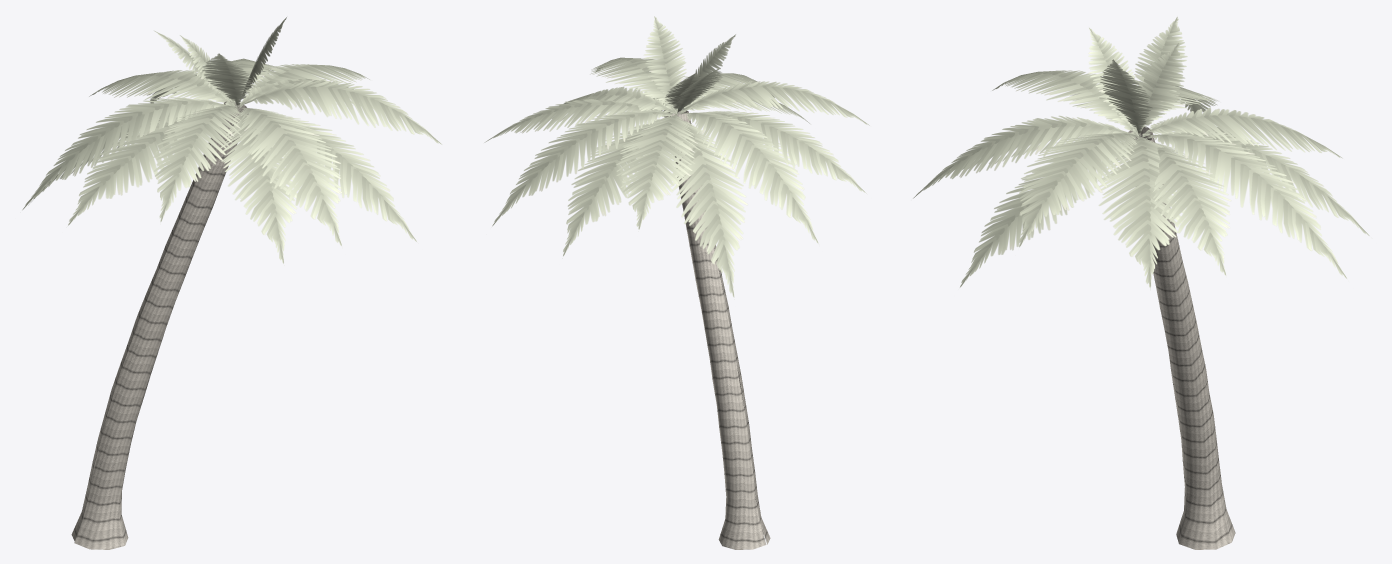
File: palm_b.glb
The picture shows the model from 3 angles, left to right: view 1: azimuth 30°, elevation 25°; view 2: azimuth 150°, elevation 25°; view 3: azimuth 270°, elevation 25°; orthographic projection. The views are drawn at different scales.
Parts seen in each view (by area): view 1: palm_b; view 2: palm_b; view 3: palm_b.
Part boxes in pixels (<box>): palm_b: <box>22,17,442,549</box>; palm_b: <box>484,16,869,549</box>; palm_b: <box>913,16,1369,549</box>.
Size of the model in its own units: 6.48 by 8.54 by 6.58.
Materials: 2 (2 with a texture image).
